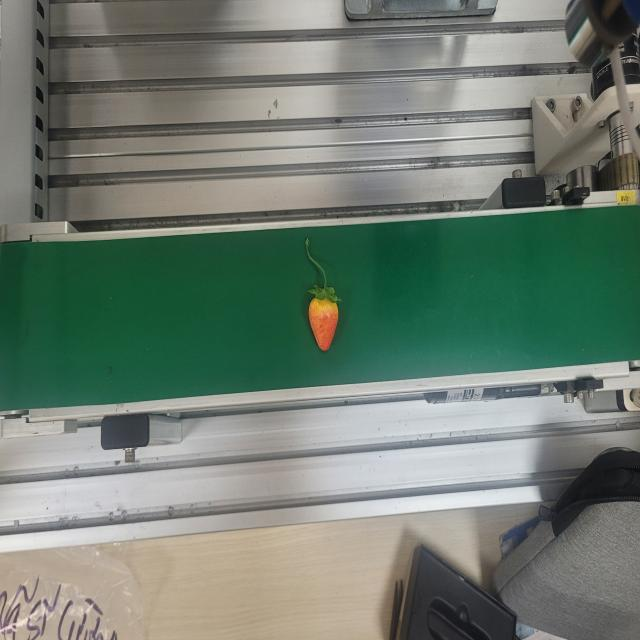Small Unripe Strawberry: (302, 234, 342, 354)
conveyor: (0, 198, 640, 423)
